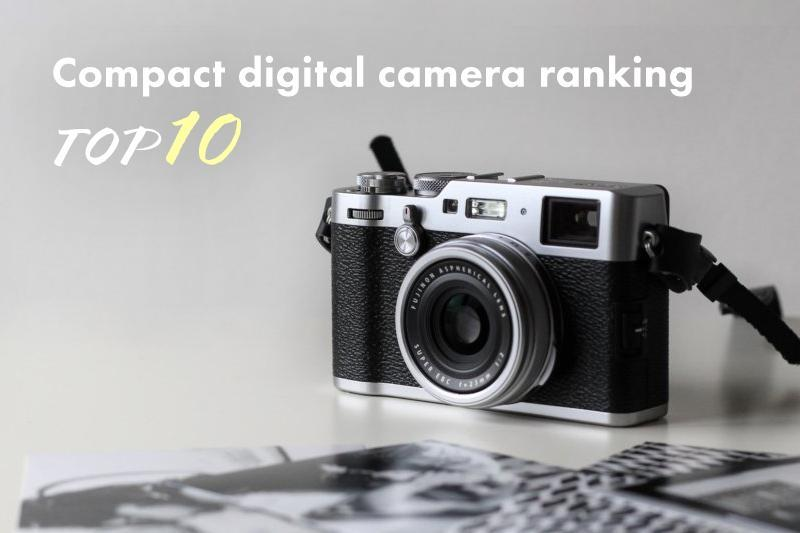degital-camera: (315, 162, 674, 434)
